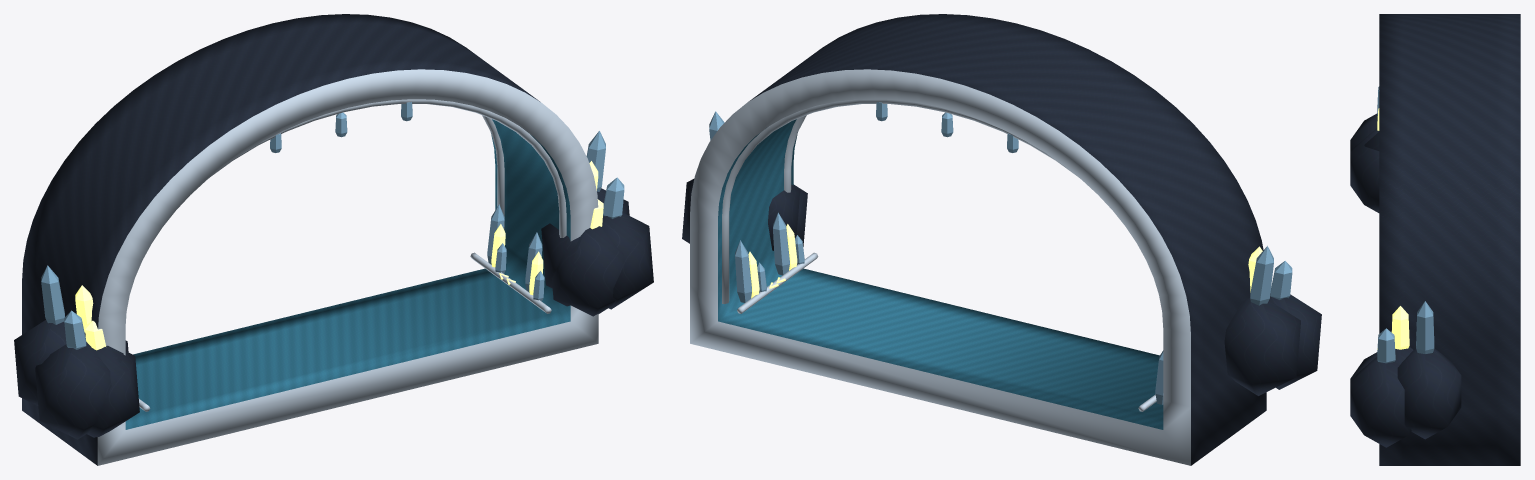
File: portal_entry_lod1.glb
3 renders of one model, left to right at view 1: azimuth 30°, elevation 25°; view 2: azimuth 150°, elevation 25°; view 3: azimuth 270°, elevation 25°, orthographic. The views are drawn at different scales.
Parts seen in each view (by area): view 1: TunnelGeometry.001; view 2: TunnelGeometry.001; view 3: TunnelGeometry.001.
Part boxes in pixels (x1,y1,x2,y2): TunnelGeometry.001: (14, 14, 653, 465); TunnelGeometry.001: (682, 14, 1321, 465); TunnelGeometry.001: (1350, 14, 1520, 465).
Size of the model in its own units: 18.63 by 9.52 by 4.82.
Materials: 5 (2 with a texture image).
